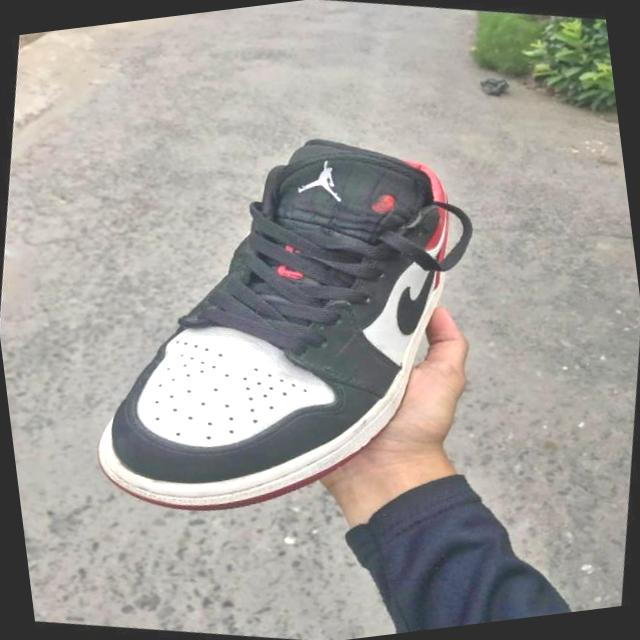nike_original_jordan: (42, 80, 504, 567)
